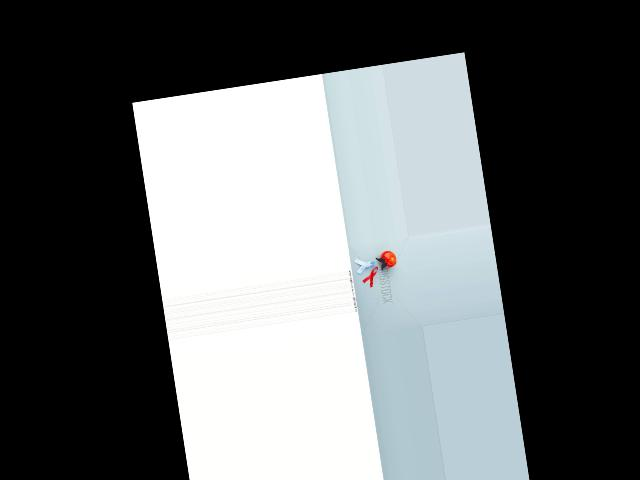tomato: (378, 250, 397, 269)
